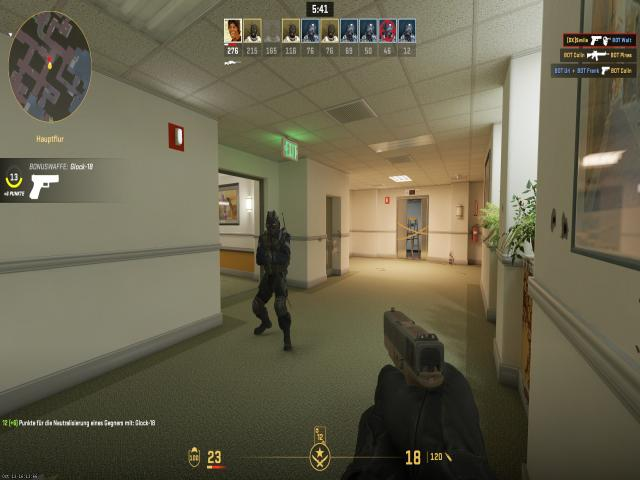CT: (256, 211, 294, 339)
CT-Head: (265, 210, 281, 235)
